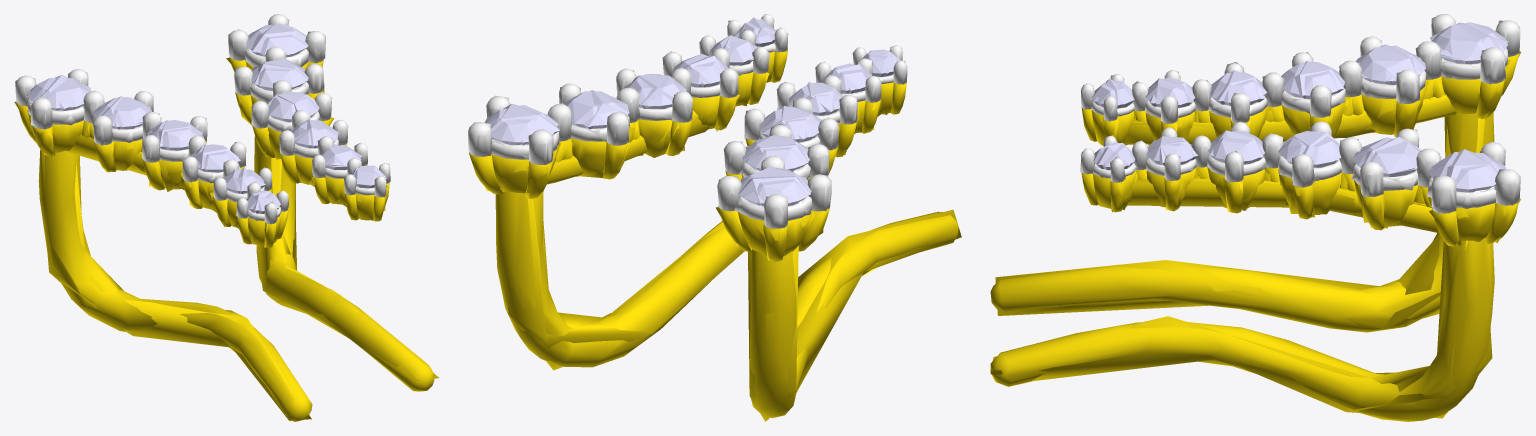
3 views of the same model, side by side, from view 1: azimuth 30°, elevation 25°; view 2: azimuth 150°, elevation 25°; view 3: azimuth 270°, elevation 25° (orthographic). The views are drawn at different scales.
Parts seen in each view (by area): view 1: highPolyMesh, lowPolyMesh; view 2: highPolyMesh, lowPolyMesh; view 3: highPolyMesh, lowPolyMesh.
Part boxes in pixels (left/top/right/bottom): highPolyMesh: left=16, top=14, right=434, bottom=421; lowPolyMesh: left=14, top=14, right=438, bottom=420; highPolyMesh: left=468, top=14, right=958, bottom=418; lowPolyMesh: left=468, top=14, right=961, bottom=421; highPolyMesh: left=990, top=14, right=1520, bottom=421; lowPolyMesh: left=990, top=15, right=1520, bottom=418.
Bounding box in the file's own units: 0.00904 × 0.00685 × 0.0118.
